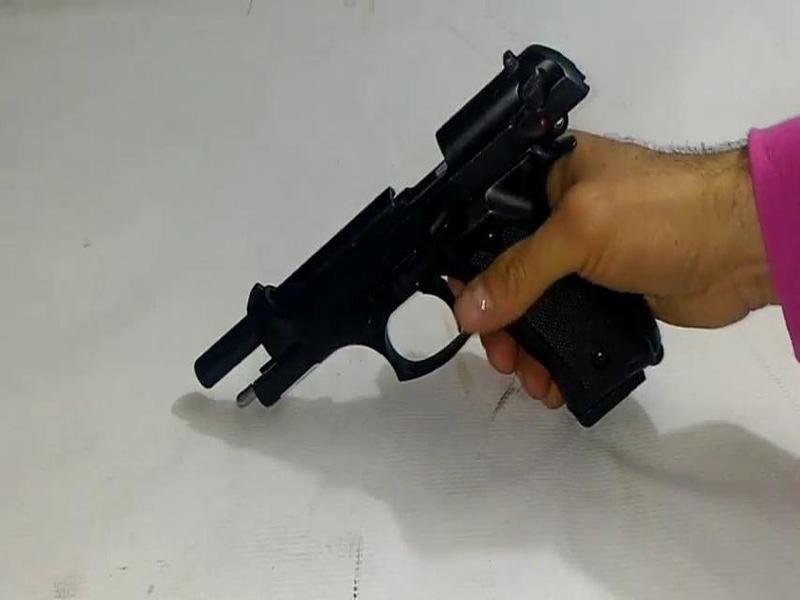Pistola: (167, 29, 694, 468)
